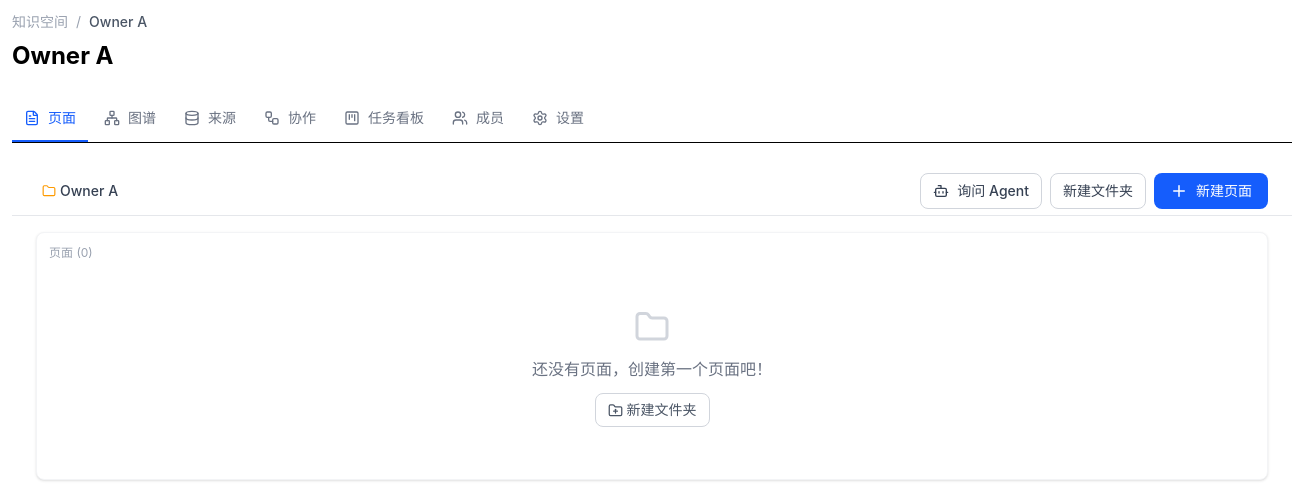
Scenario: SpaceView new-page flow › ignores a successful old-Space create completion after navigating to another Space
Click the button "新建页面": (1211, 191) [1154,173,1268,209]
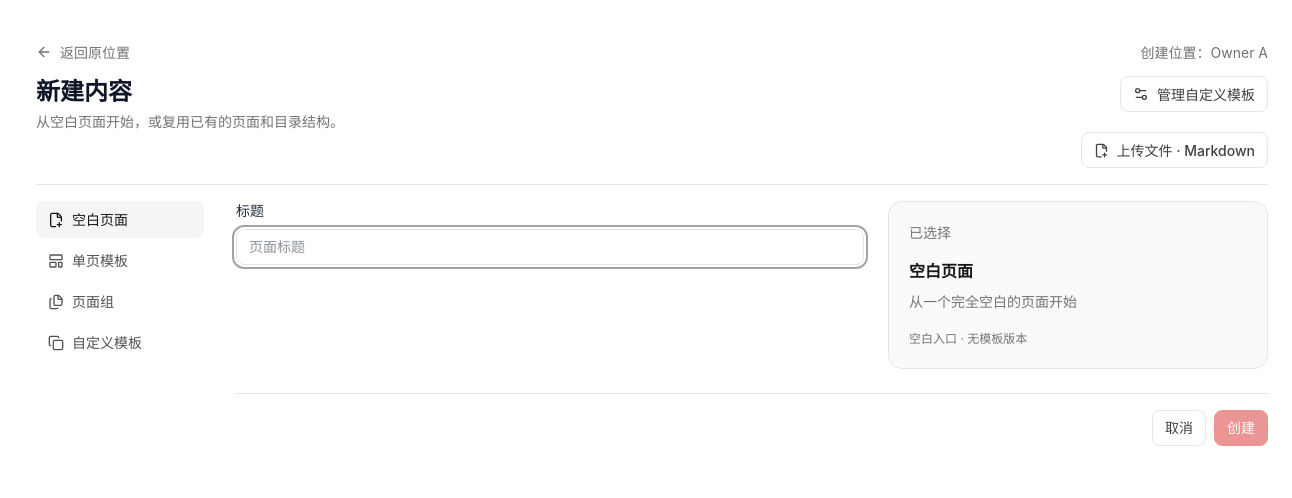
Result: the field labelled "标题" is shown
In the field labelled "标题": (550, 247) [236,229,864,265], type "Late A page"
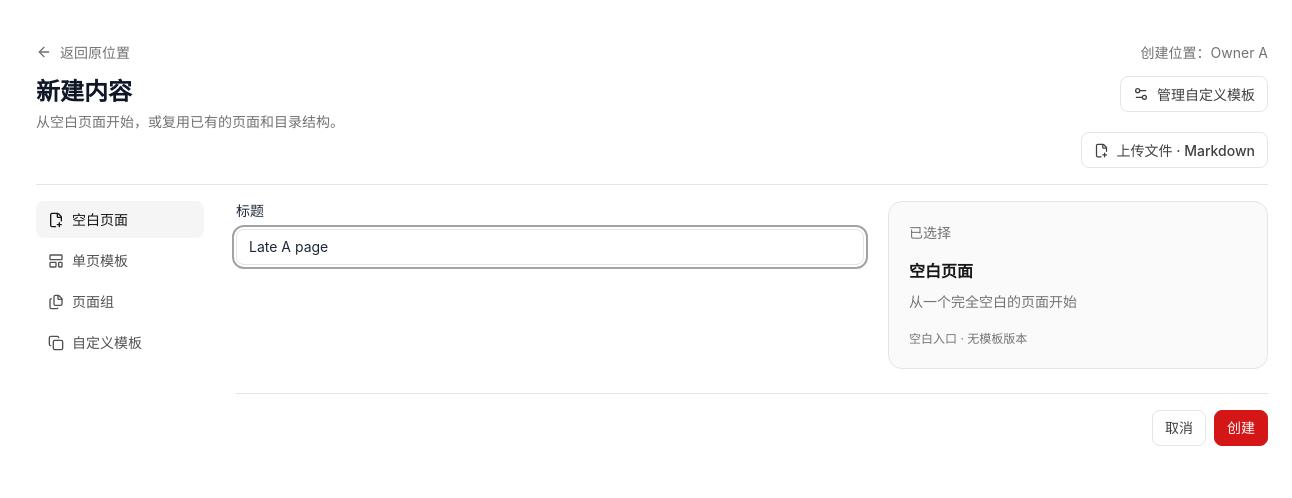
Click the button "创建": (1241, 428) [1214,410,1268,446]
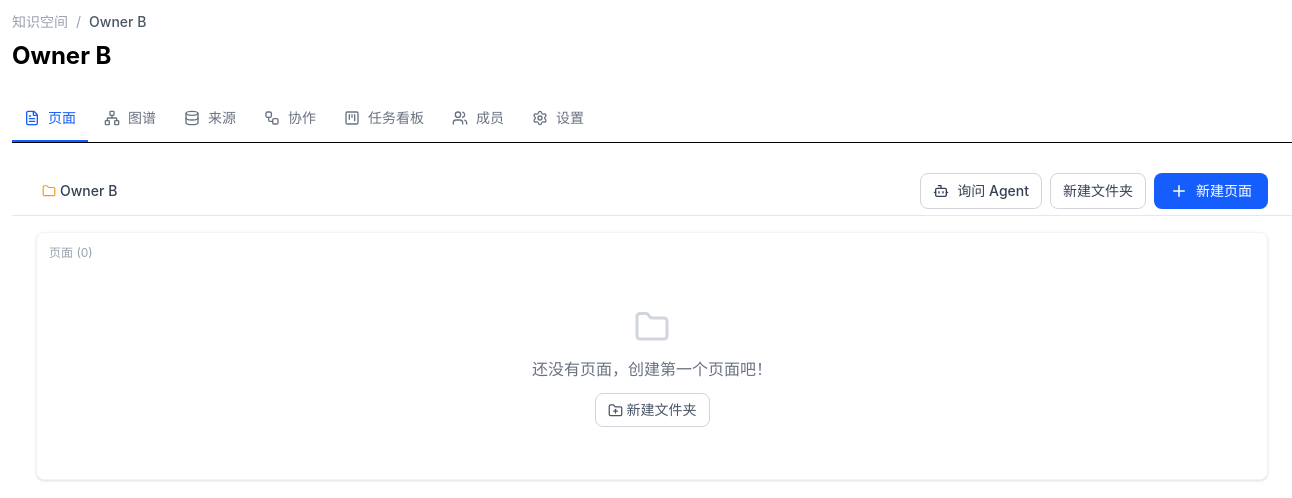
Result: the heading "Owner B" is shown at [12,40,112,72]
